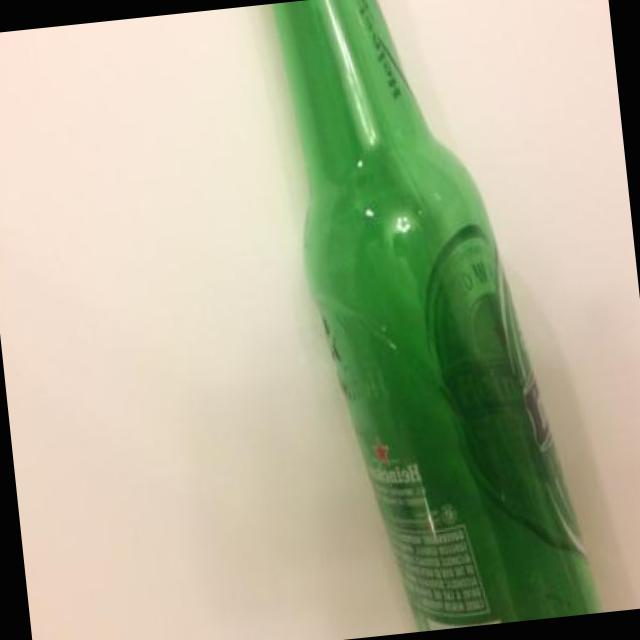chai_thuy_tinh: (269, 0, 603, 632)
